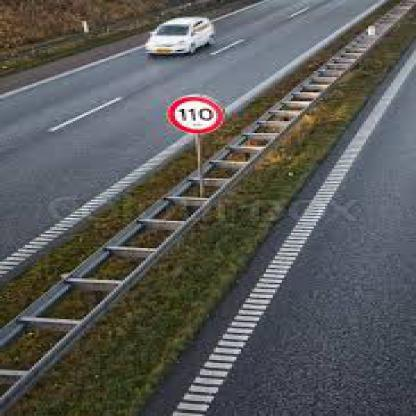Speed Limit 110: (169, 95, 222, 133)
